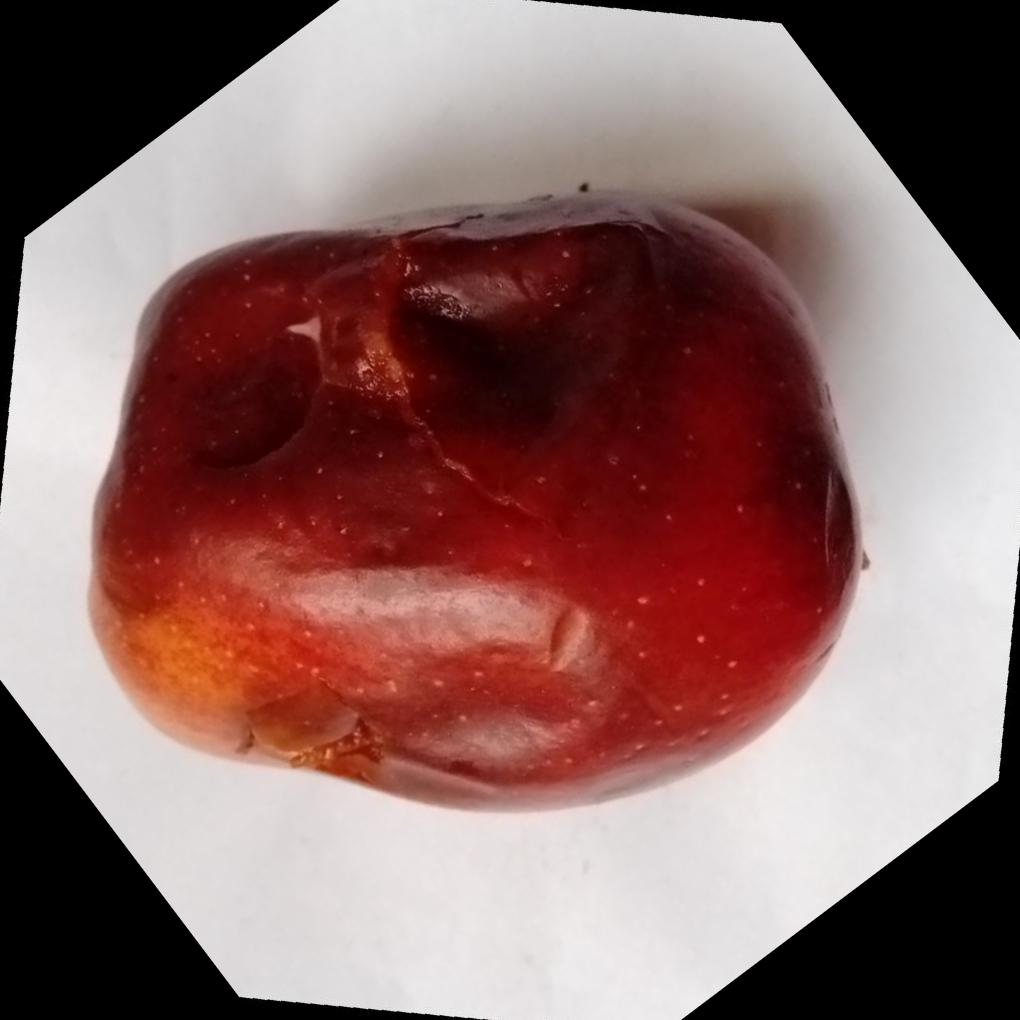FreshOrange: (82, 189, 863, 813)
